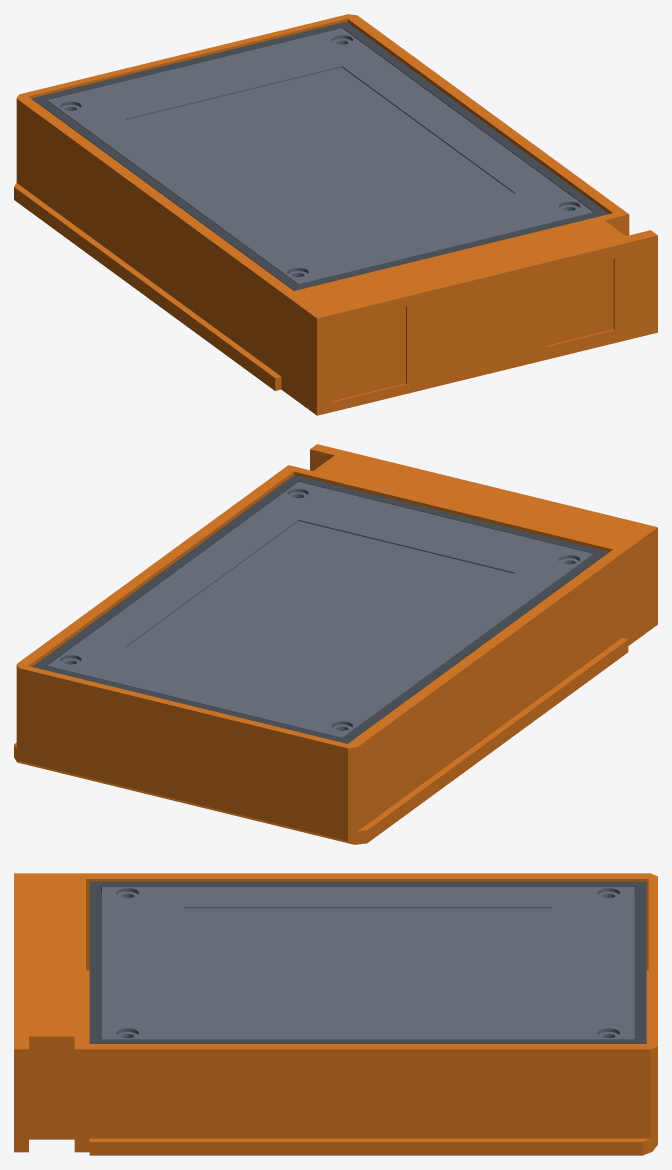
Rendered from caddy.glb.
3 views of the same model, one above another, from view 1: azimuth 30°, elevation 25°; view 2: azimuth 150°, elevation 25°; view 3: azimuth 270°, elevation 25° (orthographic). The views are drawn at different scales.
Parts seen in each view (by area): view 1: caddy (×3); view 2: caddy (×3); view 3: caddy (×3).
Boxes of the visible parts, left/top/right/bottom form: caddy (×3): left=14, top=14, right=657, bottom=415; caddy (×3): left=14, top=444, right=657, bottom=844; caddy (×3): left=14, top=873, right=657, bottom=1155.
Size of the model in its own units: 0.114 by 0.03 by 0.17.
